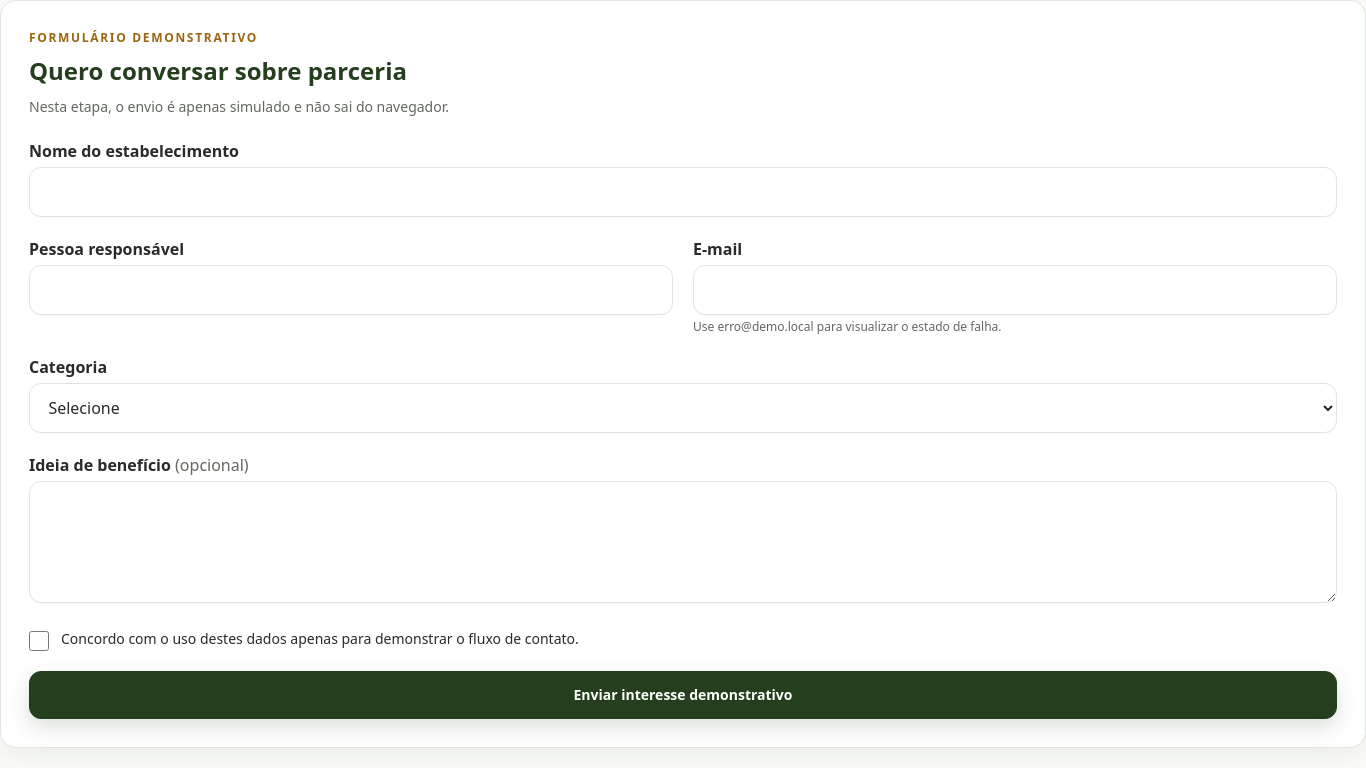
Test: PartnerInterestForm › completes a valid demonstration without an external service
Type "Café Exemplo" into the field labelled "Nome do estabelecimento" at point(683, 192), box [29, 167, 1337, 217]
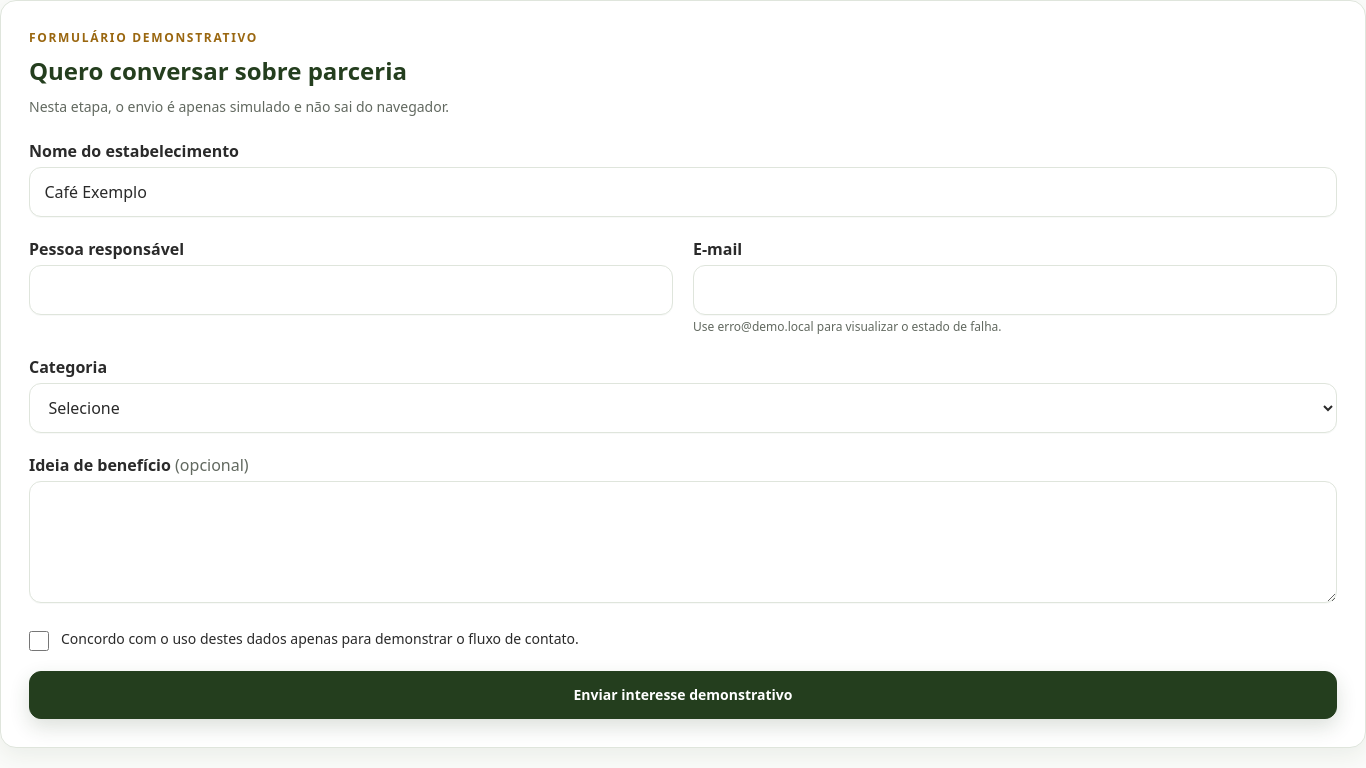
Type "Ana" into the field labelled "Pessoa responsável" at point(351, 290), box [29, 265, 673, 315]
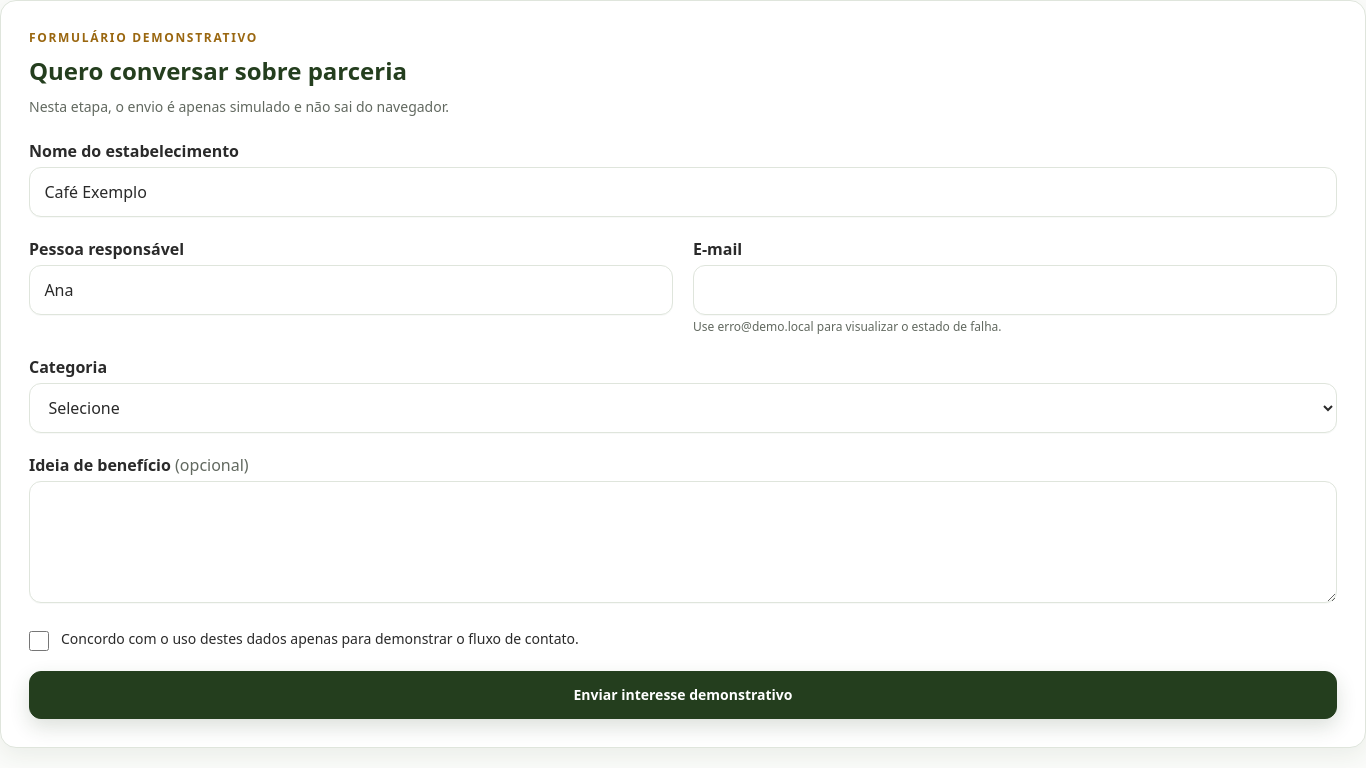
Type "ana@example.com" into the field labelled "E-mail" at point(1015, 290), box [693, 265, 1337, 315]
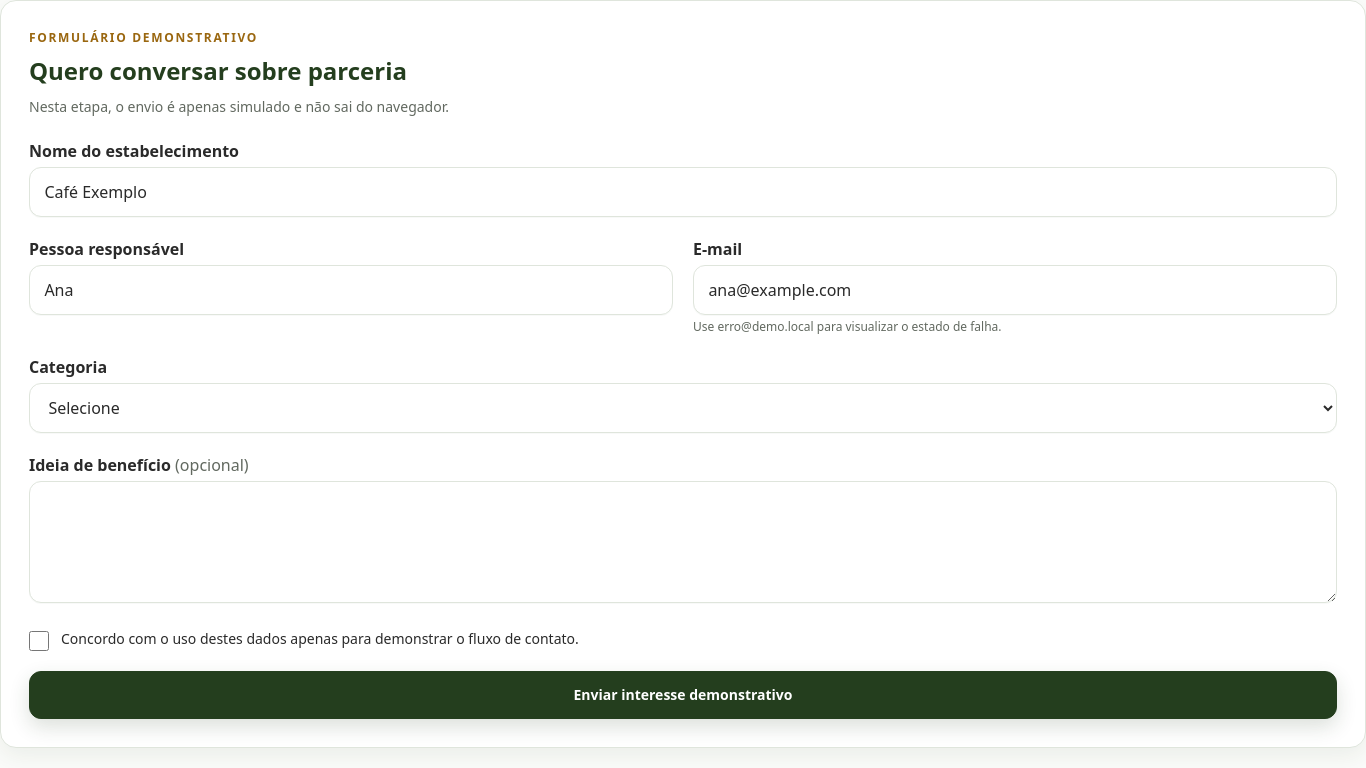
Select "Alimentação" in the dropdown labelled "Categoria" at point(683, 408), box [29, 383, 1337, 433]
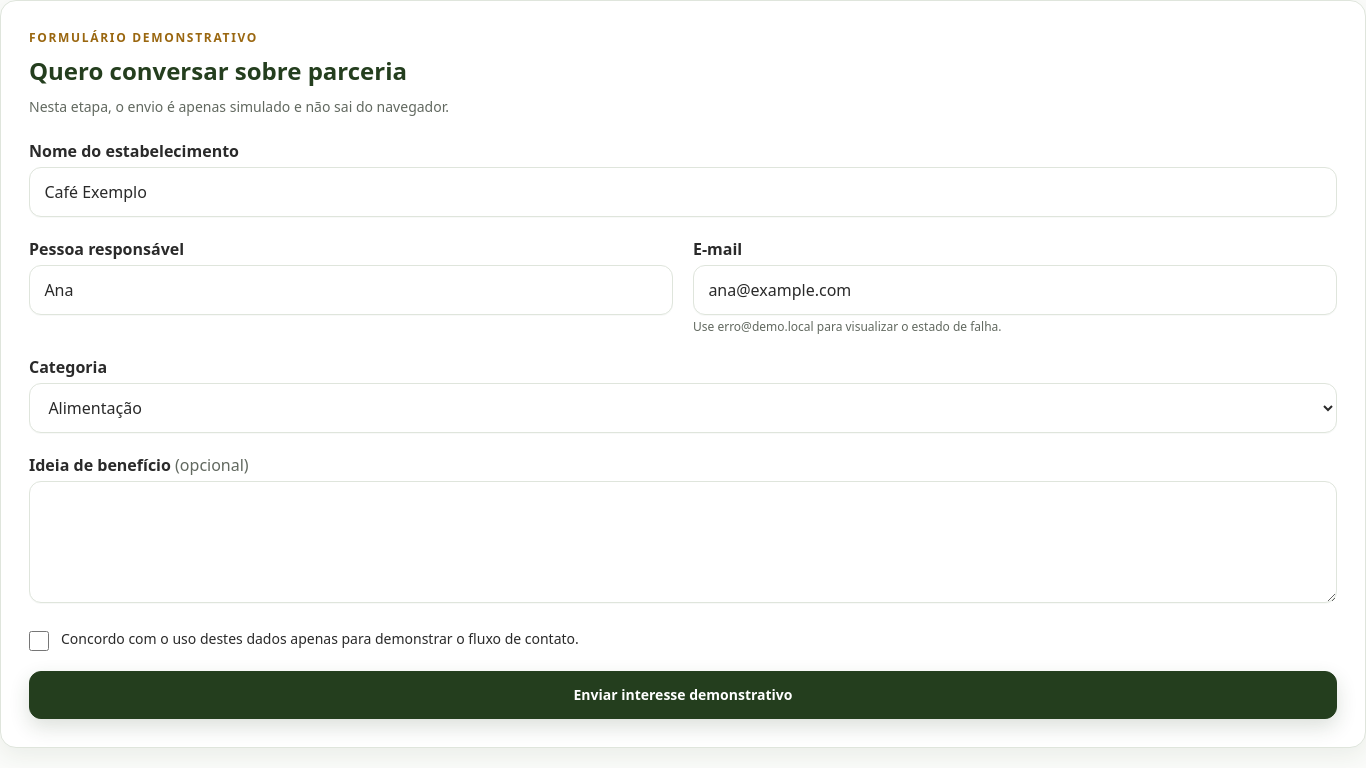
Click the checkbox at point(39, 641), box [29, 631, 49, 651]
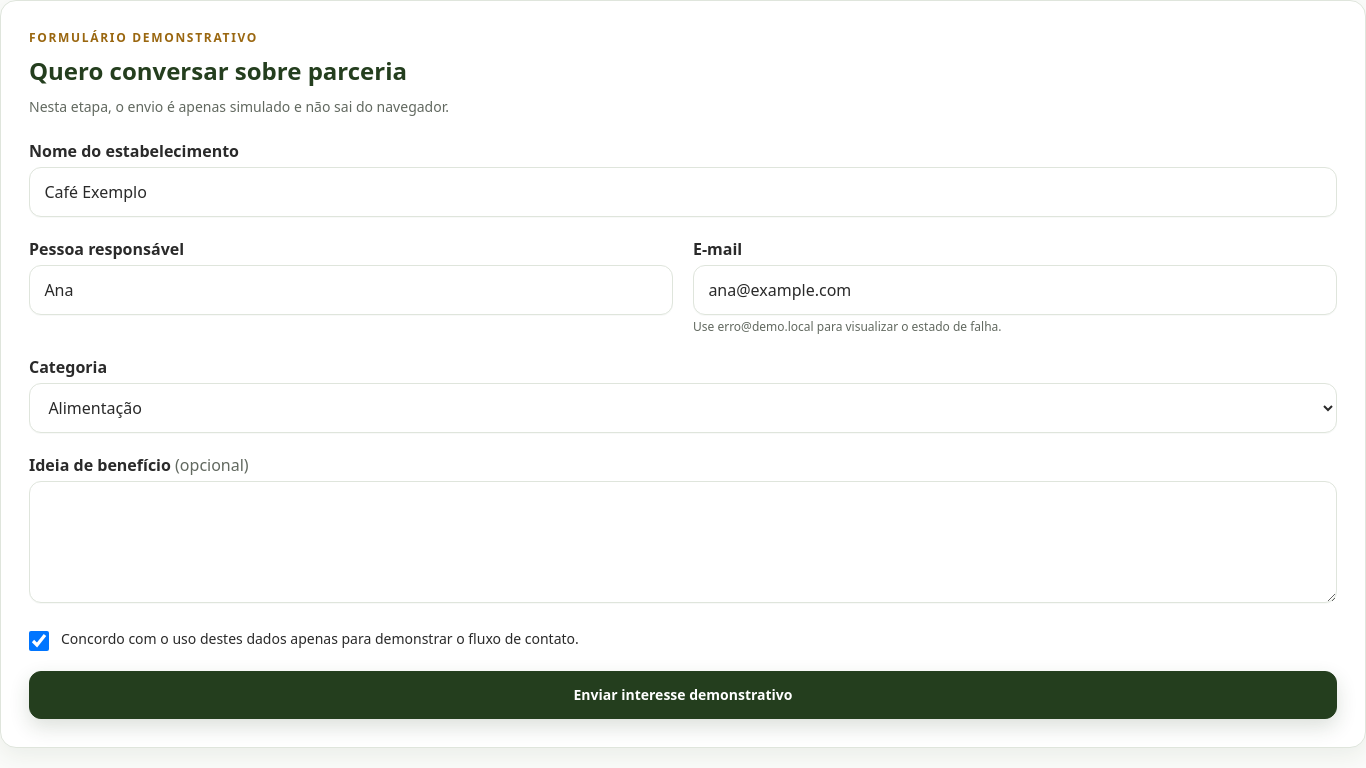
Click the button "Enviar interesse demonstrativo" at point(683, 695), box [29, 671, 1337, 719]
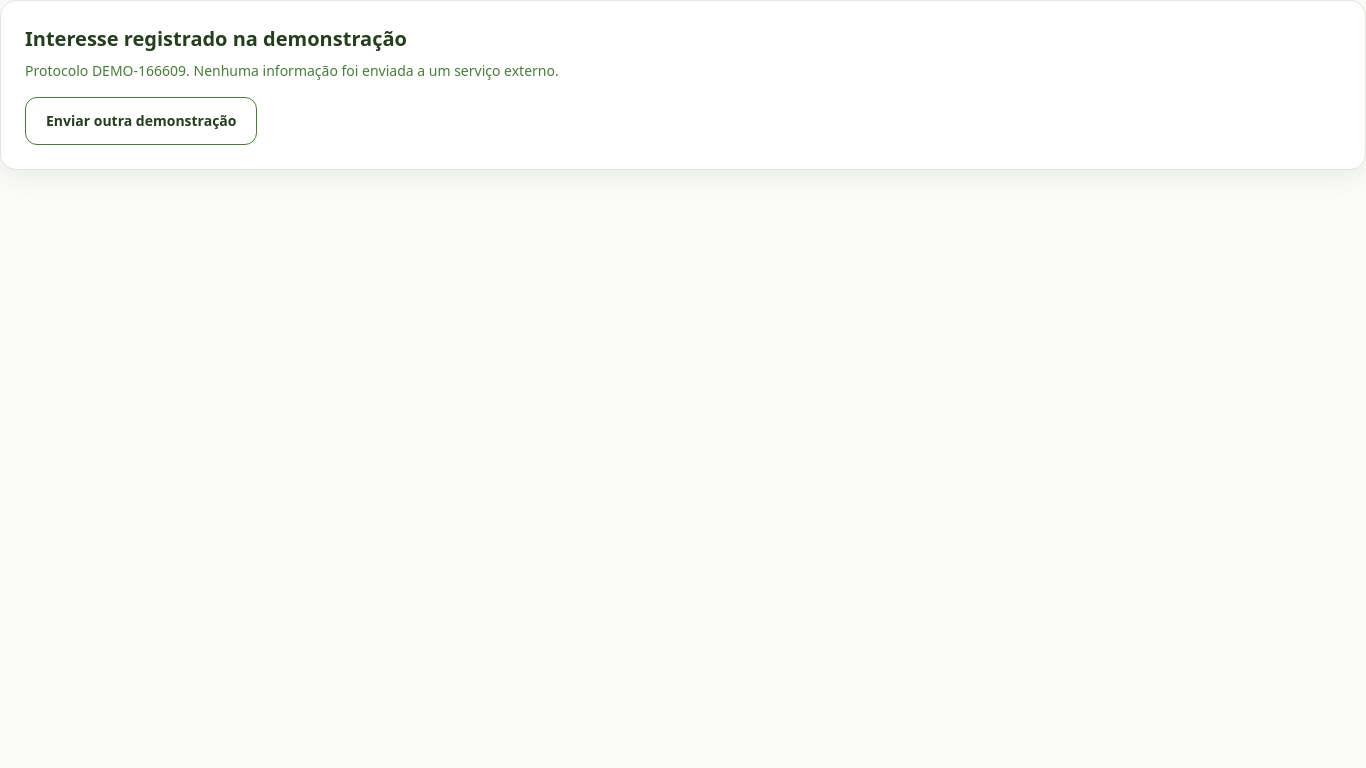
Result: the heading "Interesse registrado na demonstração" is shown at [25, 25, 407, 52]
Result: the text "Nenhuma informação foi enviada" is shown at [186, 61, 559, 80]
